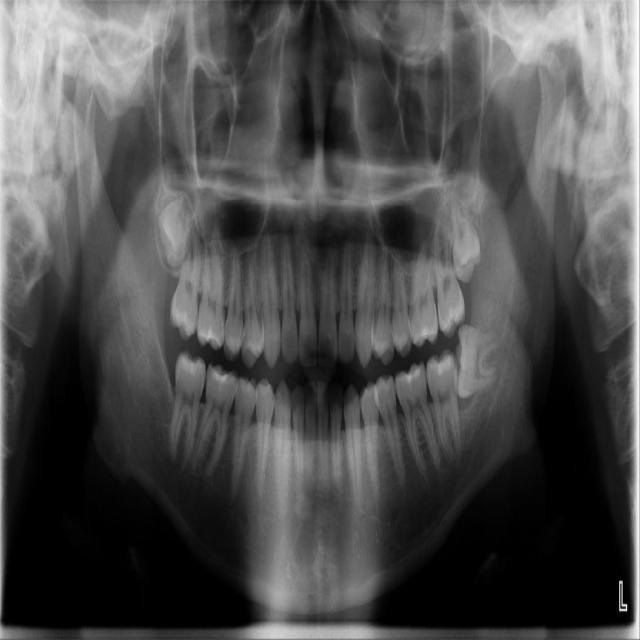3M ESPE Implant: (158, 194, 191, 268)
52: (401, 364, 423, 387), (209, 371, 228, 391)
73: (620, 613, 628, 622)
BioHorizons Implant: (428, 226, 469, 338)
BioLife Implant: (449, 201, 482, 281)
Biomet 3i Implant: (451, 322, 505, 401)
Blue Sky Bio Implant: (424, 349, 463, 460)
Caries: (166, 227, 213, 341)
Implant: (166, 350, 208, 469)
